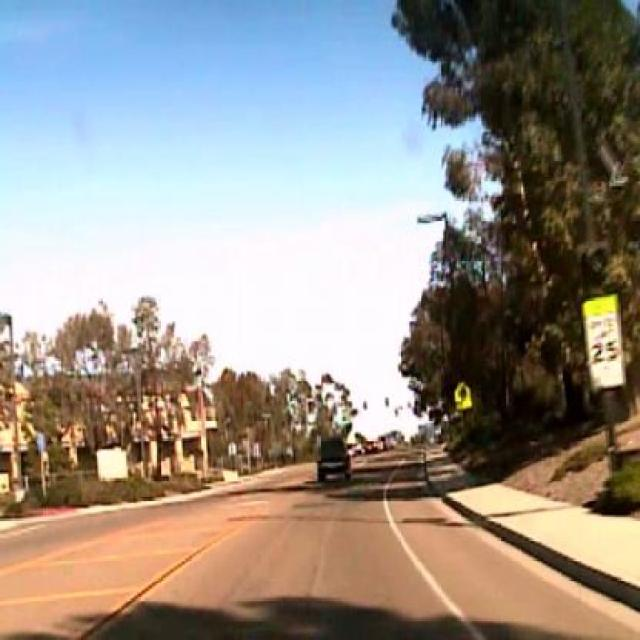school: (456, 380, 472, 402)
schoolSpeedLimit25: (582, 292, 626, 390)
